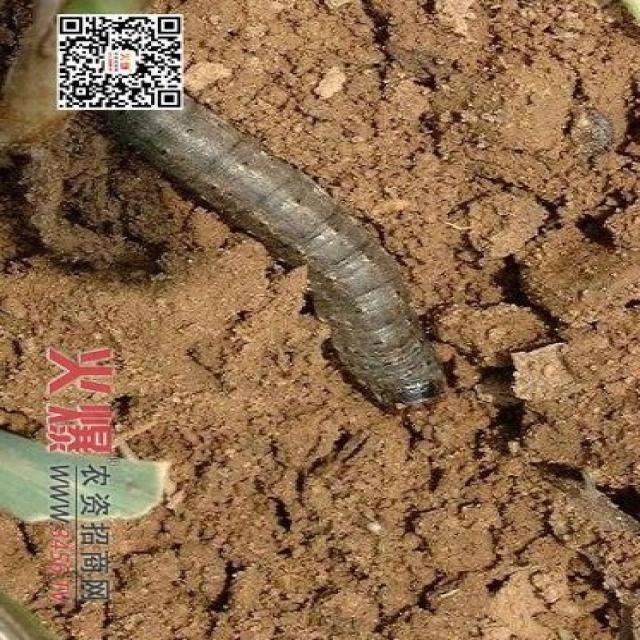black cutworm: (150, 122, 453, 424)
